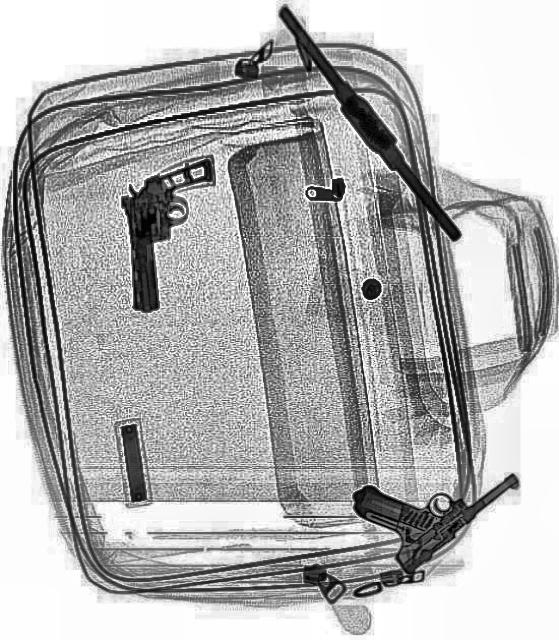Gun: (346, 436, 535, 582), (116, 156, 224, 314)
